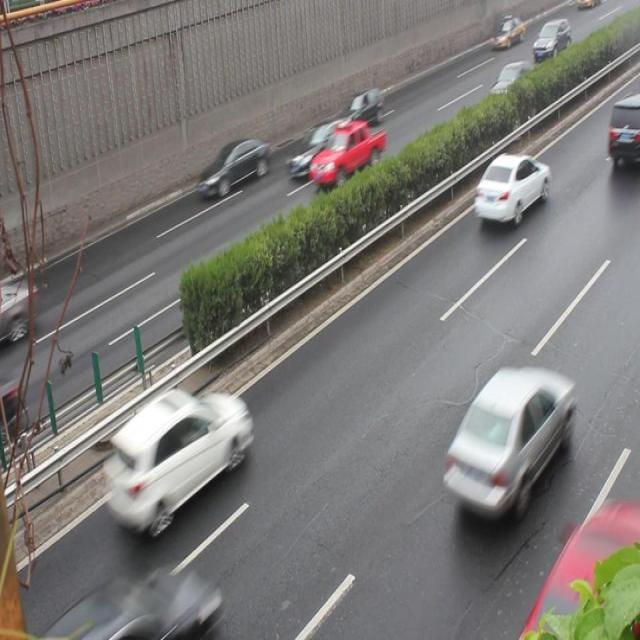car: (104, 388, 248, 536), (442, 363, 571, 524), (87, 566, 221, 640), (471, 153, 549, 225), (308, 118, 386, 188), (197, 137, 271, 200), (285, 119, 355, 182), (605, 92, 640, 173), (327, 86, 381, 132)
